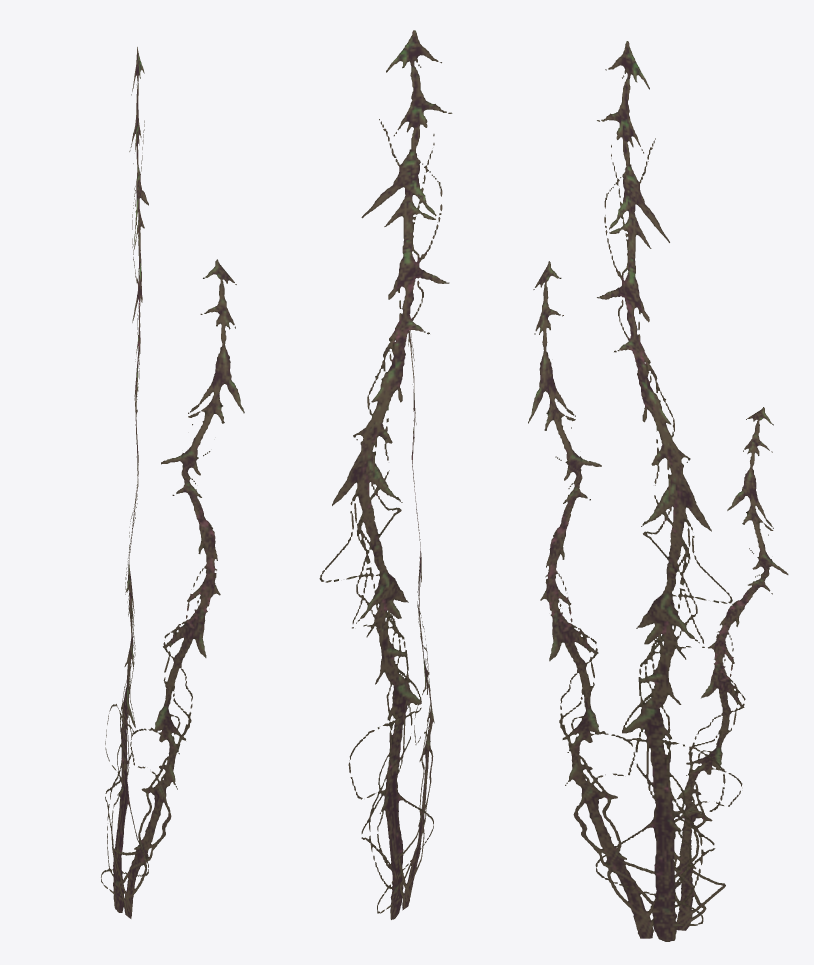
The model's file is SM_weed_bunch_01.fbx.
3 renders of one model, left to right at view 1: azimuth 30°, elevation 25°; view 2: azimuth 150°, elevation 25°; view 3: azimuth 270°, elevation 25°, orthographic. The views are drawn at different scales.
Parts seen in each view (by area): view 1: SM_weed_bunch_01; view 2: SM_weed_bunch_01; view 3: SM_weed_bunch_01.
Part boxes in pixels (x1,y1,x2,y2): SM_weed_bunch_01: (101,47,244,918); SM_weed_bunch_01: (319,30,452,919); SM_weed_bunch_01: (528,41,788,941).
Size of the model in its own units: 17.97 by 30.19 by 102.
